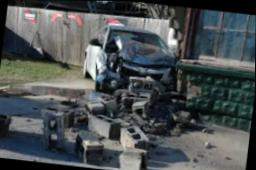Bonnet: (105, 38, 177, 65)
Bumper: (101, 61, 172, 95)
Light: (101, 51, 121, 72)
